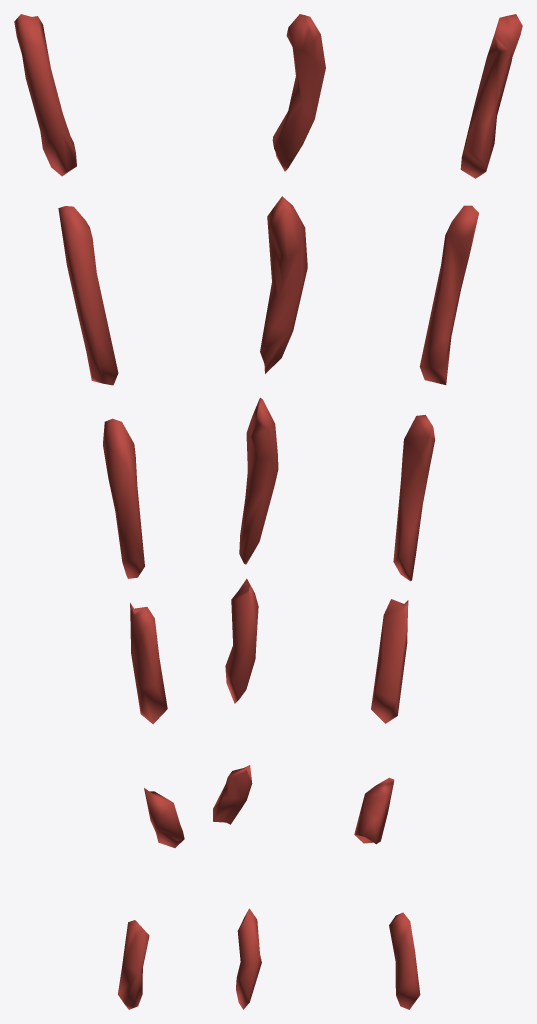
The model's file is musculos-interspinales-lumborum-muscles-r.glb.
3 views of the same model, side by side, from view 1: azimuth 90°, elevation 25°; view 2: azimuth 210°, elevation 25°; view 3: azimuth 270°, elevation 25° (orthographic). The views are drawn at different scales.
Visible parts, largest first — view 1: Interspinales lumborum muscles.r; view 2: Interspinales lumborum muscles.r; view 3: Interspinales lumborum muscles.r.
Part boxes in pixels (x1=…): Interspinales lumborum muscles.r: x1=14, y1=14, x2=184, y2=1009; Interspinales lumborum muscles.r: x1=213, y1=14, x2=325, y2=1009; Interspinales lumborum muscles.r: x1=354, y1=14, x2=522, y2=1009.
Size of the model in its own units: 0.00875 by 0.1603 by 0.0247.
